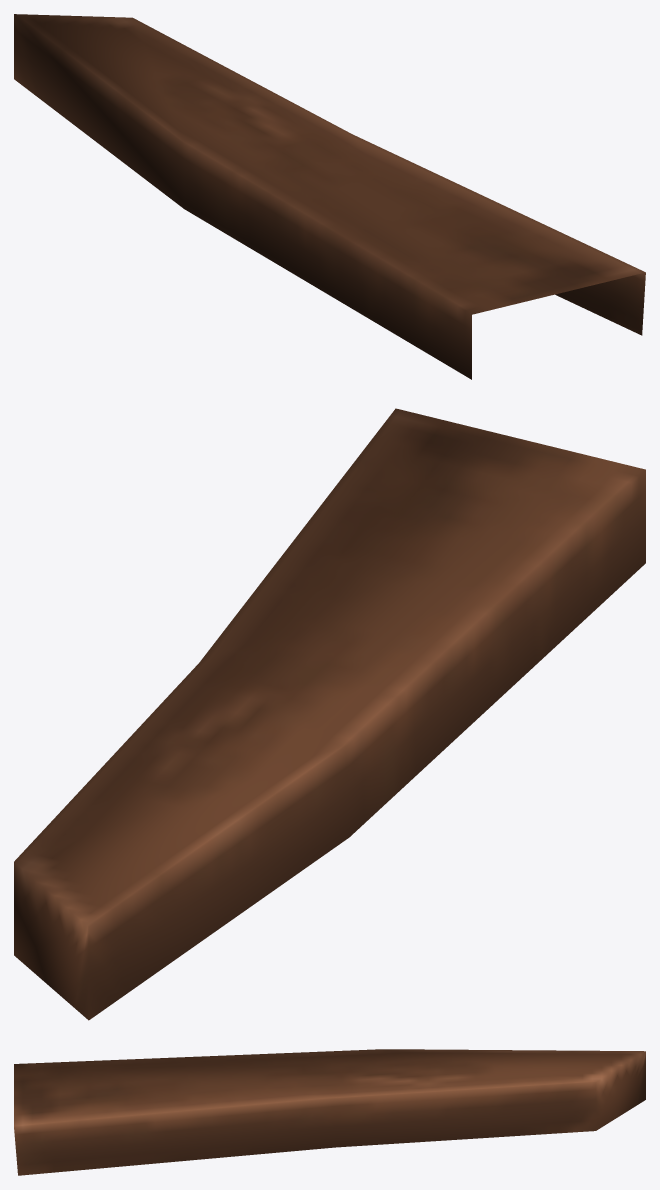
File: sn_jiguan_tielong_009.FBX
3 views of the same model, one above another, from view 1: azimuth 30°, elevation 25°; view 2: azimuth 150°, elevation 25°; view 3: azimuth 270°, elevation 25° (orthographic). The views are drawn at different scales.
Parts seen in each view (by area): view 1: sn_jiguan_tielong_009; view 2: sn_jiguan_tielong_009; view 3: sn_jiguan_tielong_009.
Part boxes in pixels (box(x1,y1,x2,y2)): sn_jiguan_tielong_009: box(14, 14, 645, 379); sn_jiguan_tielong_009: box(14, 408, 645, 1020); sn_jiguan_tielong_009: box(14, 1049, 645, 1175).
Bounding box in the file's own units: 35.37 × 10.24 × 121.
